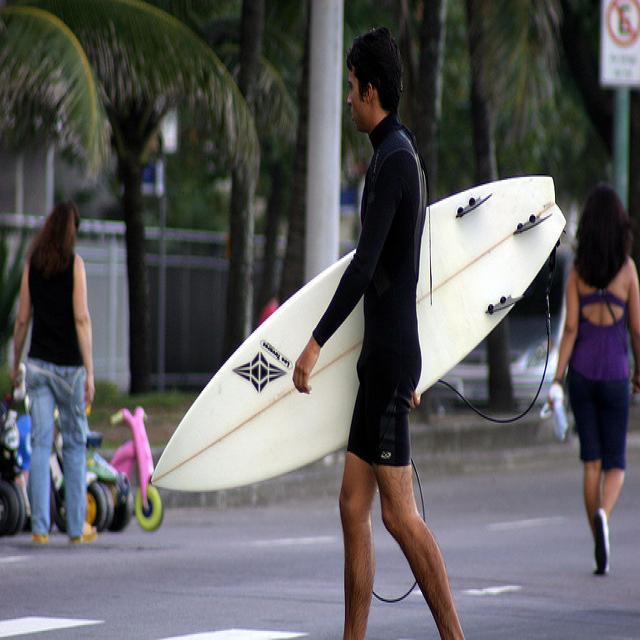Vehicle: (419, 336, 560, 410)
